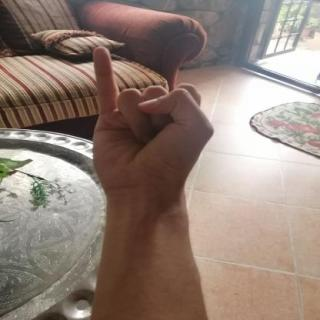MEEM: (72, 38, 224, 204)
